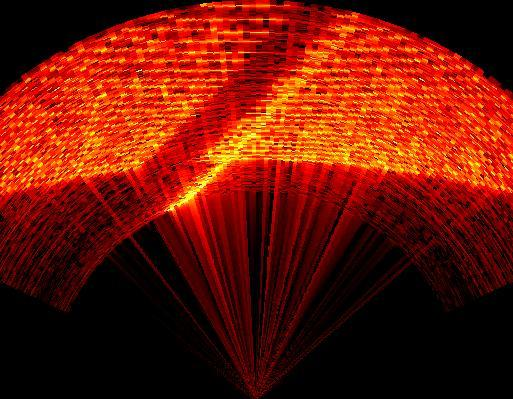pipe: (128, 8, 361, 216)
